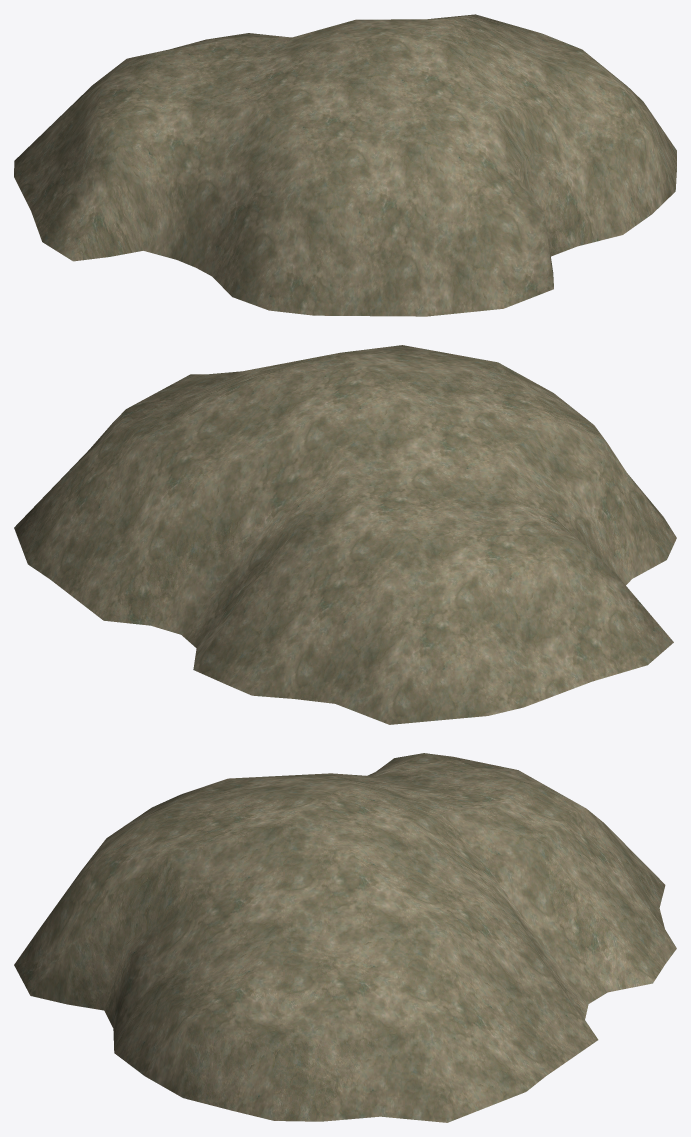
The model's file is EKH_JAIL_PS_JA_SM_CAVE_ROOF893837.fbx.
3 renders of one model, top to bottom at view 1: azimuth 30°, elevation 25°; view 2: azimuth 150°, elevation 25°; view 3: azimuth 270°, elevation 25°, orthographic. The views are drawn at different scales.
Visible parts, largest first — view 1: EKH_JAIL_PS_JA_SM_CAVE_ROOF893837; view 2: EKH_JAIL_PS_JA_SM_CAVE_ROOF893837; view 3: EKH_JAIL_PS_JA_SM_CAVE_ROOF893837.
Part boxes in pixels (<box>): EKH_JAIL_PS_JA_SM_CAVE_ROOF893837: <box>14,14,676,316</box>; EKH_JAIL_PS_JA_SM_CAVE_ROOF893837: <box>14,345,676,724</box>; EKH_JAIL_PS_JA_SM_CAVE_ROOF893837: <box>14,753,676,1122</box>.
Bounding box in the file's own units: 115537 × 32025 × 106114.
1 material, 1 textured.
